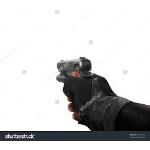Pistol: (52, 54, 92, 122)
